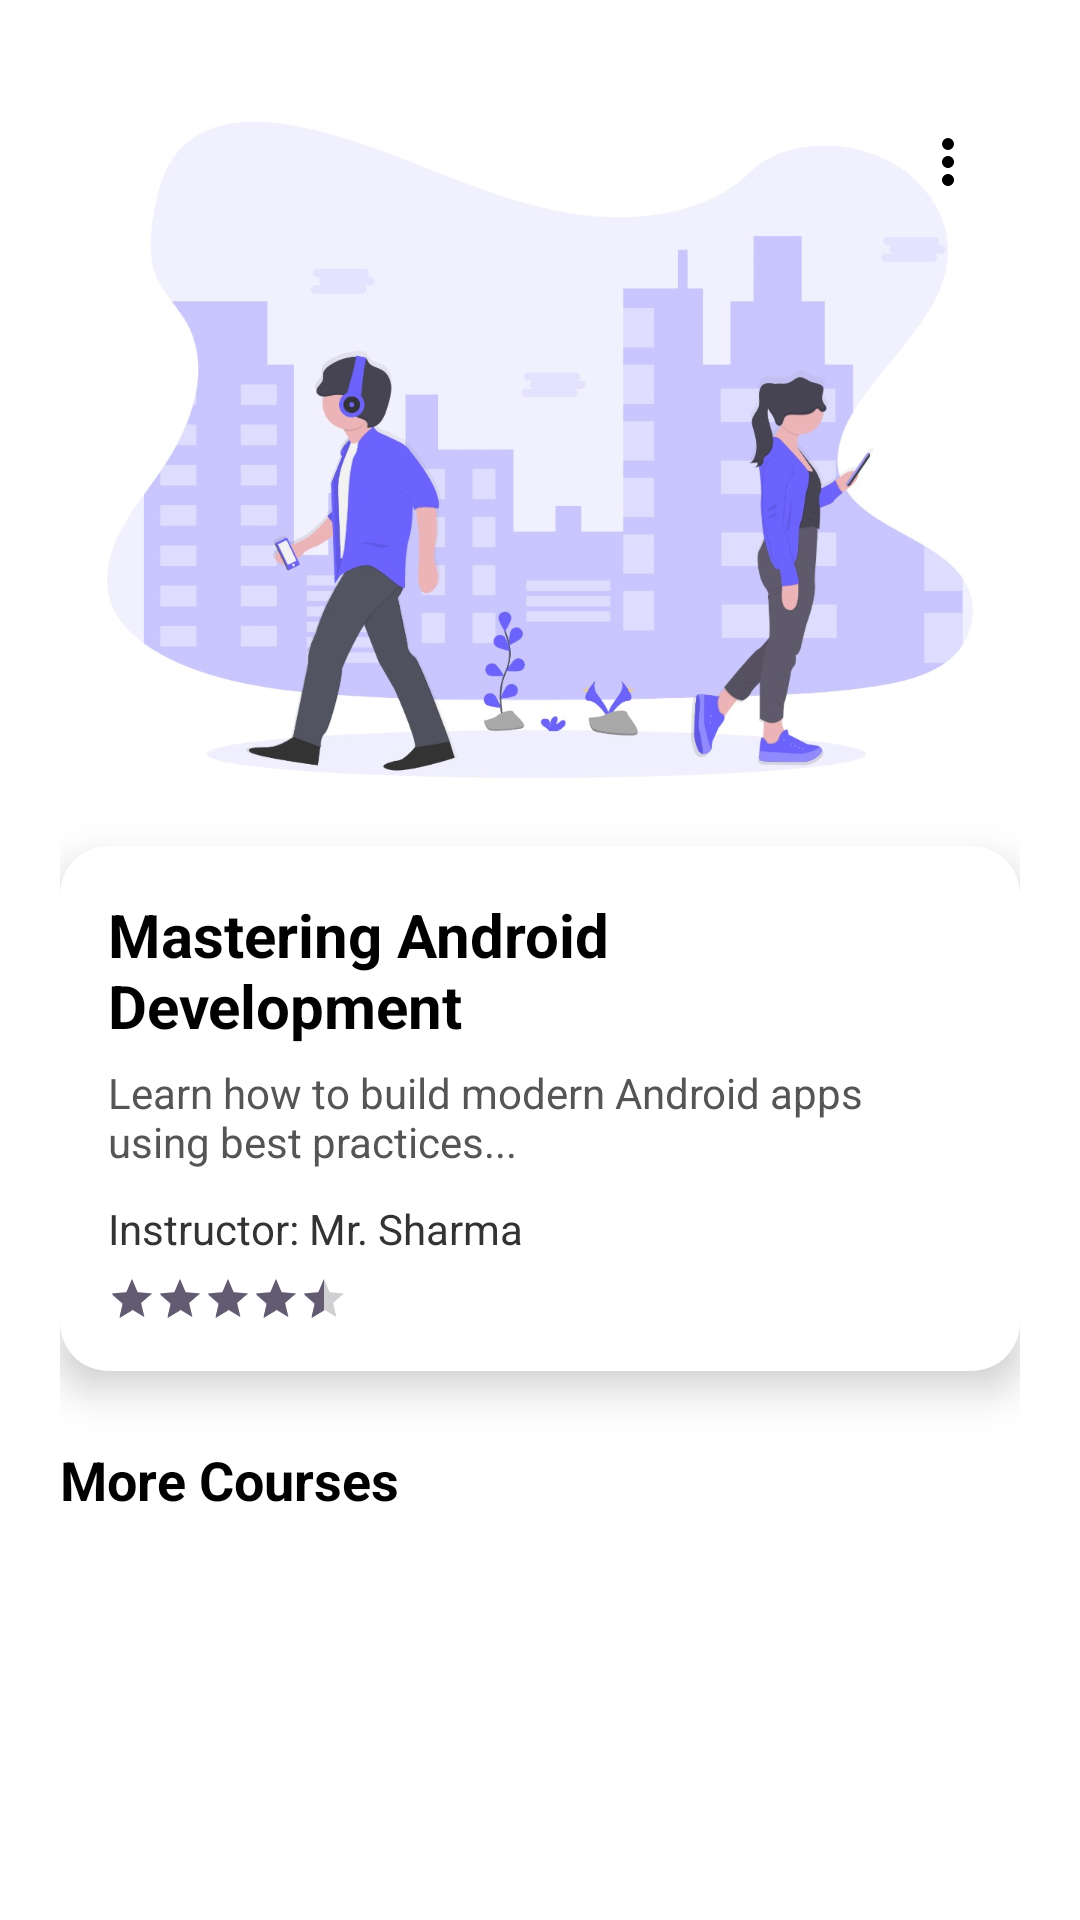

Named icons in this screenshot (1080px×1920px) and their centers, [x,y]:
Menu: [948,162]
